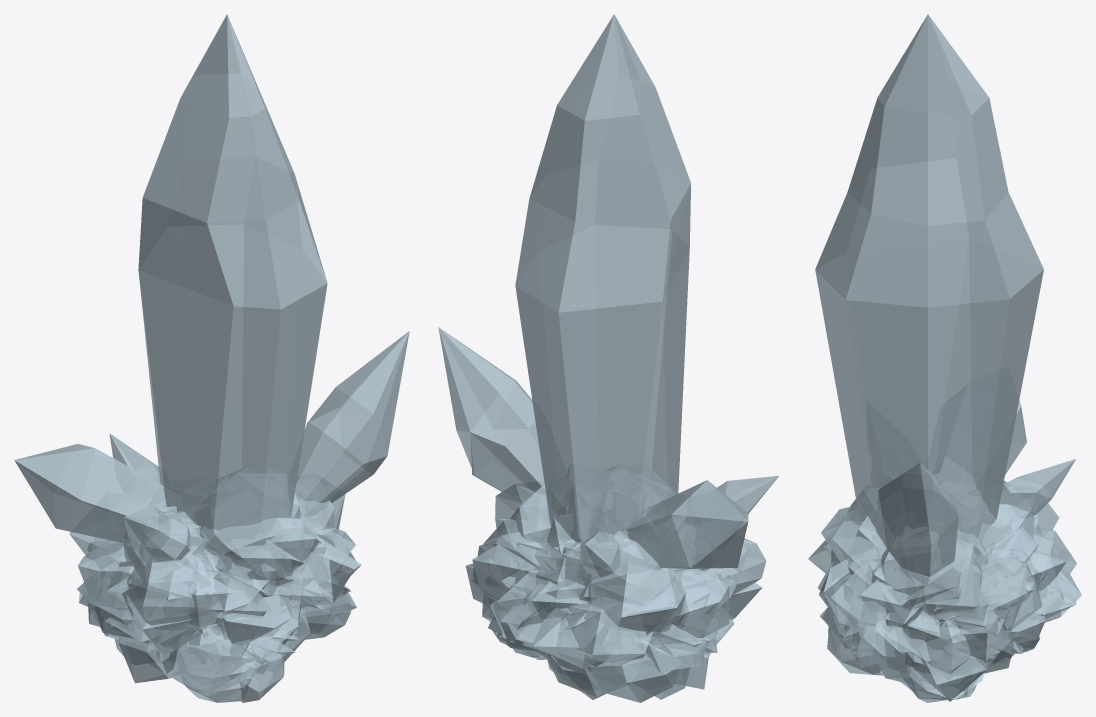
The model's file is DiamondFBX.fbx.
3 renders of one model, left to right at view 1: azimuth 30°, elevation 25°; view 2: azimuth 150°, elevation 25°; view 3: azimuth 270°, elevation 25°, orthographic.
Visible parts, largest first — view 1: polySurface7; view 2: polySurface7; view 3: polySurface7.
Boxes of the visible parts, x1,y1,x2,y2 form: polySurface7: (14, 14, 409, 702); polySurface7: (438, 14, 779, 702); polySurface7: (808, 14, 1081, 702).
Bounding box in the file's own units: 6.43 × 11.57 × 4.3.
